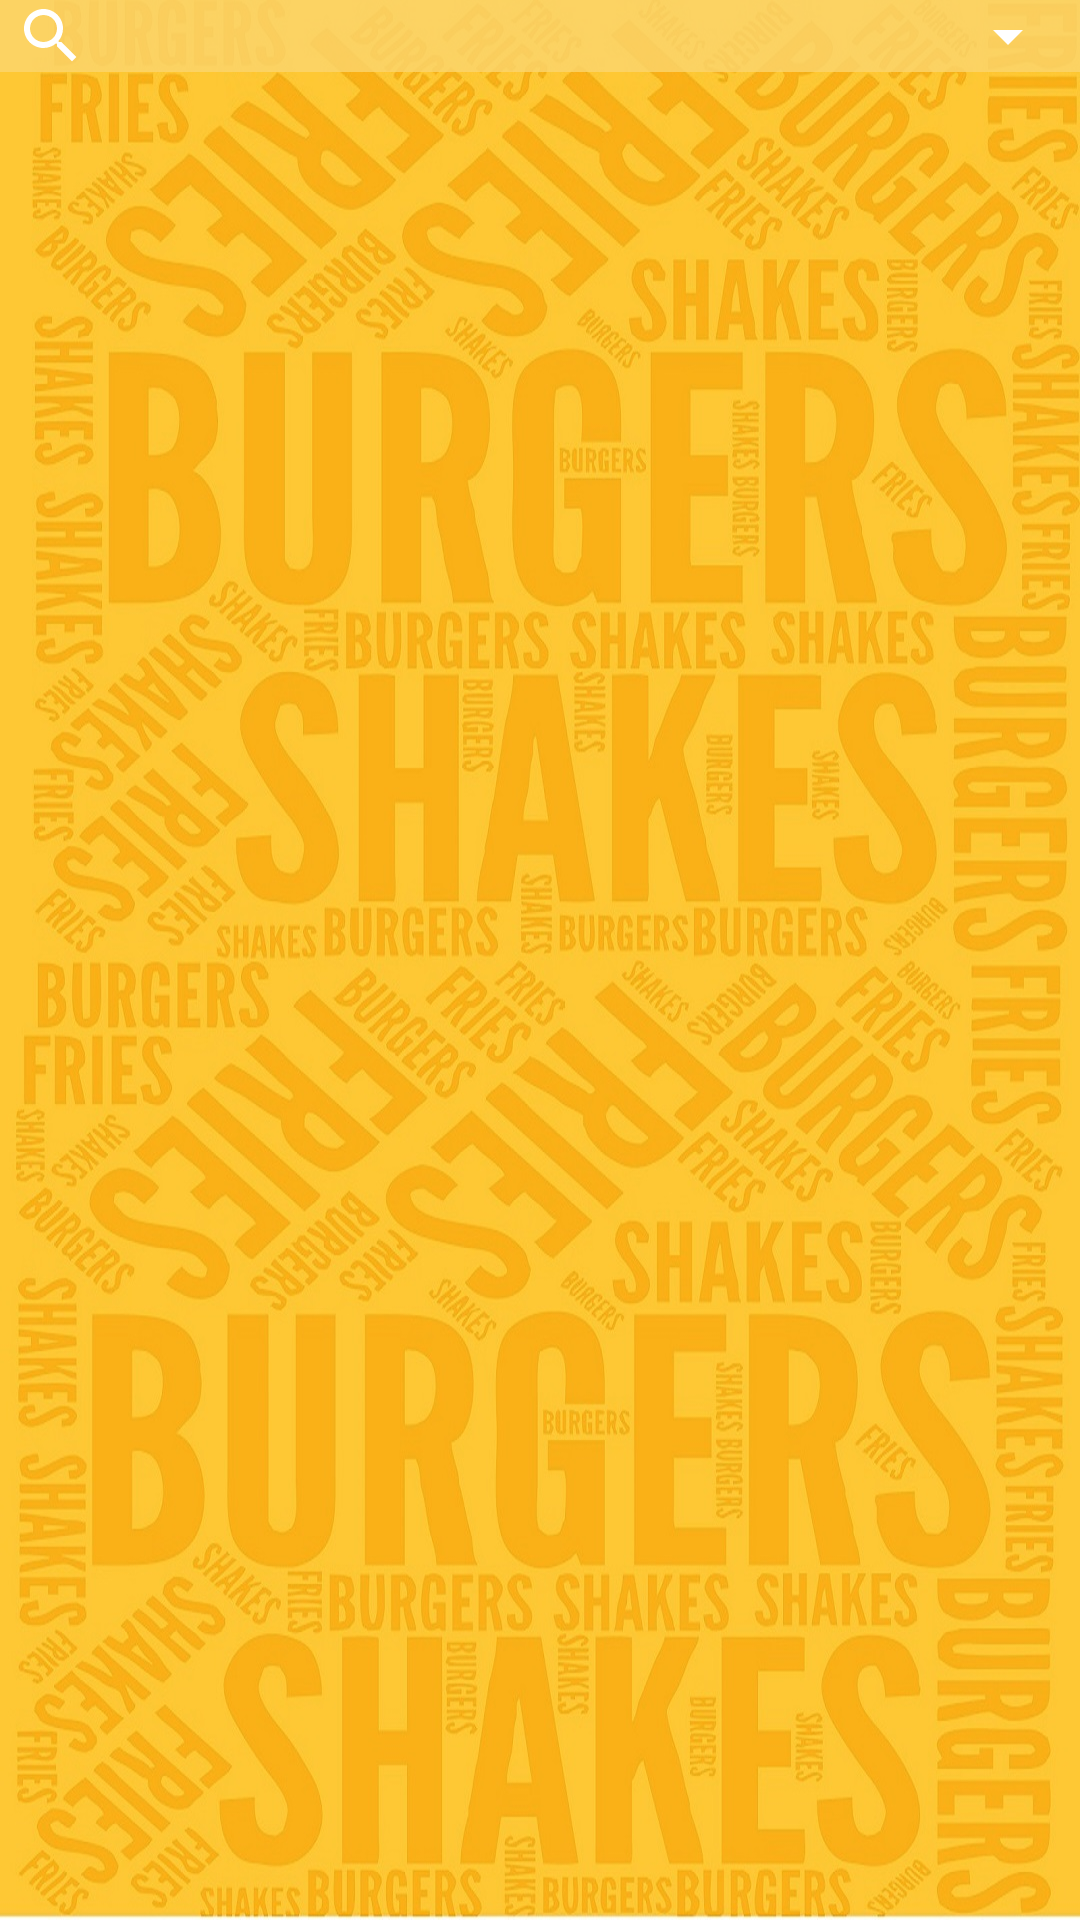

Icons on this 1080px x 1920px Android screen, each with its box as box=[x1, y1, x2, y2]:
search: box=[24, 9, 76, 61]
